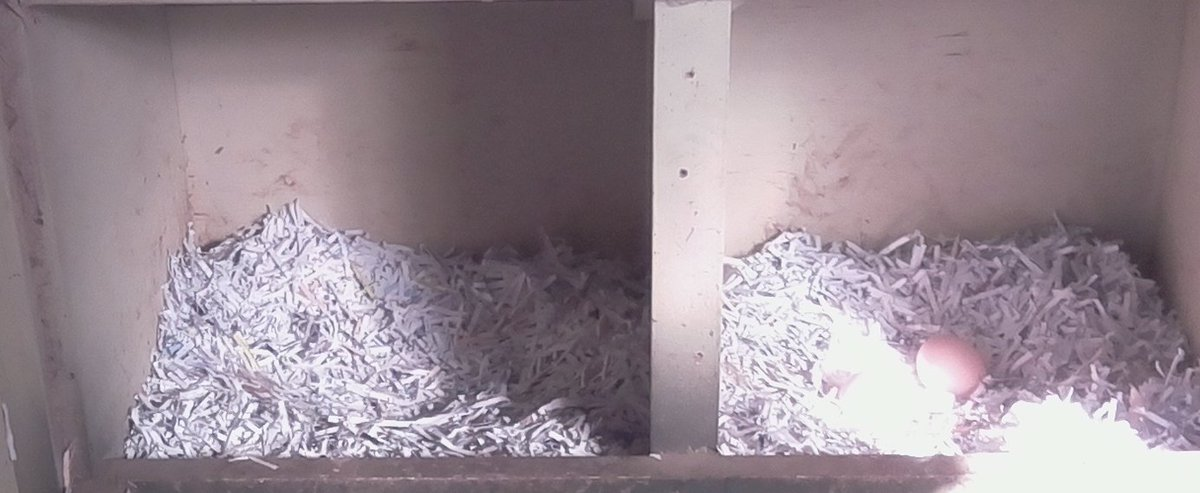egg: (911, 326, 993, 402)
